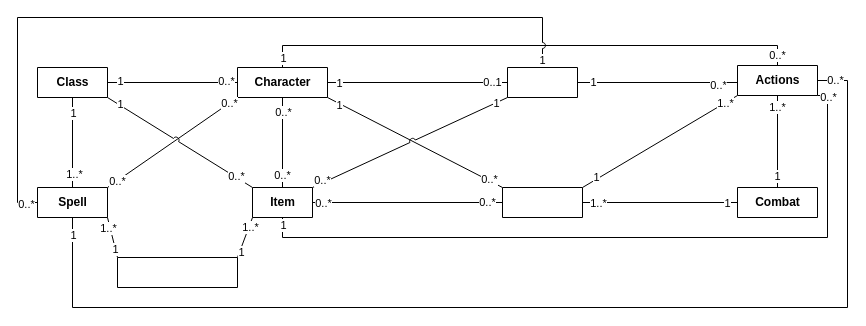
The diagram is 866 pixels wide and 326 high, and some of its shapes have lost their labels. The box of each missing label's shape, as (x1, y1, x2, y2) in pixels:
Rounds: (502, 186, 582, 218)
Shop: (506, 66, 578, 98)
Spell_category: (116, 256, 238, 288)
